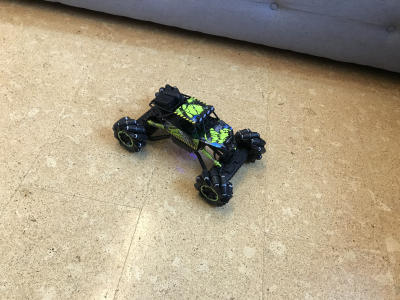remote control car: (108, 78, 269, 209)
